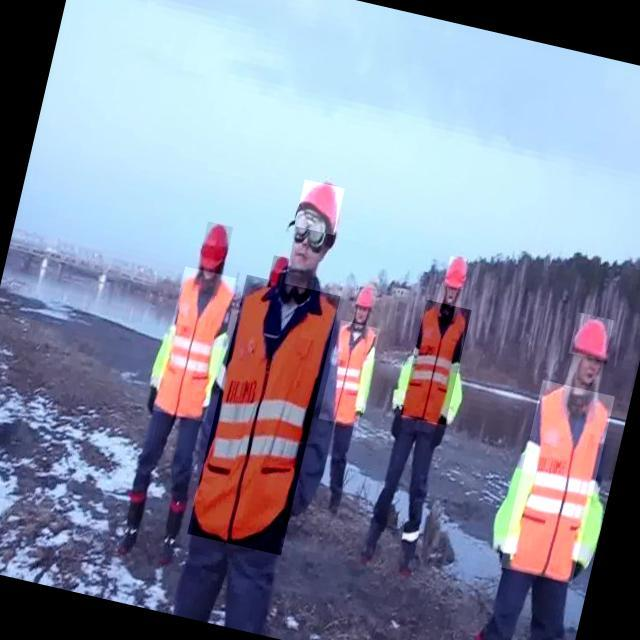Helmet: (294, 179, 346, 235), (569, 312, 615, 361), (197, 221, 233, 274), (443, 256, 469, 290), (266, 255, 289, 291), (351, 287, 377, 311)
Safety Vest: (187, 274, 340, 555), (500, 380, 615, 584), (152, 267, 237, 422), (400, 299, 471, 425), (318, 321, 380, 429)
